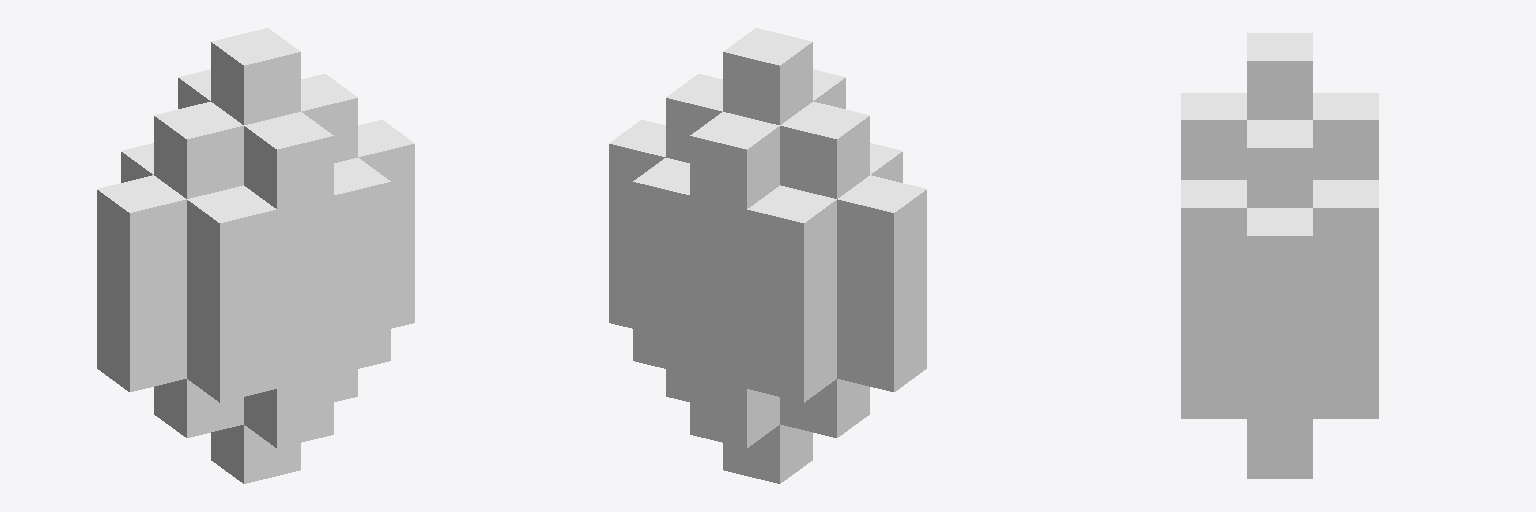
The model's file is RedGem.obj.
3 views of the same model, side by side, from view 1: azimuth 30°, elevation 25°; view 2: azimuth 150°, elevation 25°; view 3: azimuth 270°, elevation 25° (orthographic).
Bounding box in the file's own units: 5 × 7 × 3.